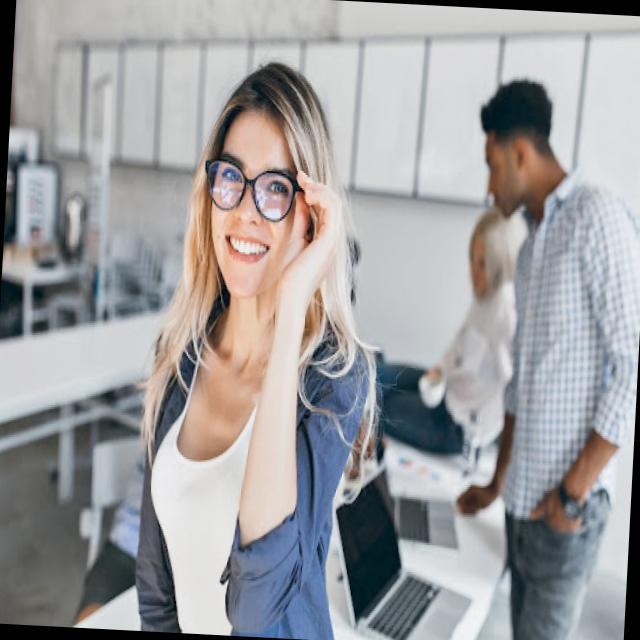glasses: (198, 148, 308, 228)
